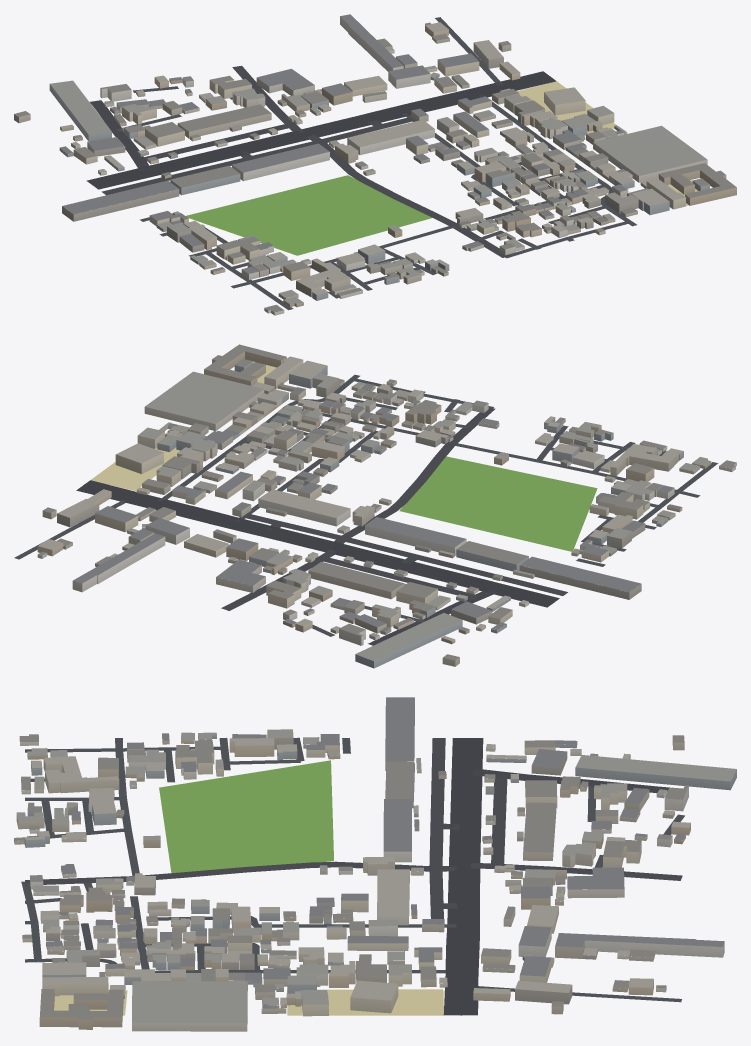
3 views of the same model, one above another, from view 1: azimuth 30°, elevation 25°; view 2: azimuth 150°, elevation 25°; view 3: azimuth 270°, elevation 25° (orthographic). The views are drawn at different scales.
Visible parts, largest first — view 1: buildings_roofs, buildings_walls, roads, landuse; view 2: buildings_roofs, buildings_walls, roads, landuse; view 3: buildings_roofs, buildings_walls, roads, landuse.
Boxes of the visible parts, <box> form: buildings_roofs: <box>14,14,736,312</box>; buildings_walls: <box>14,16,736,315</box>; roads: <box>86,17,636,310</box>; landuse: <box>186,81,698,255</box>; buildings_roofs: <box>38,344,736,661</box>; buildings_walls: <box>37,351,736,668</box>; roads: <box>14,374,718,645</box>; landuse: <box>90,361,597,551</box>; buildings_roofs: <box>14,697,736,1022</box>; buildings_walls: <box>14,716,736,1031</box>; roads: <box>21,737,684,1015</box>; landuse: <box>54,760,443,1015</box>.
Bounding box in the file's own units: 586 × 10.79 × 550.
